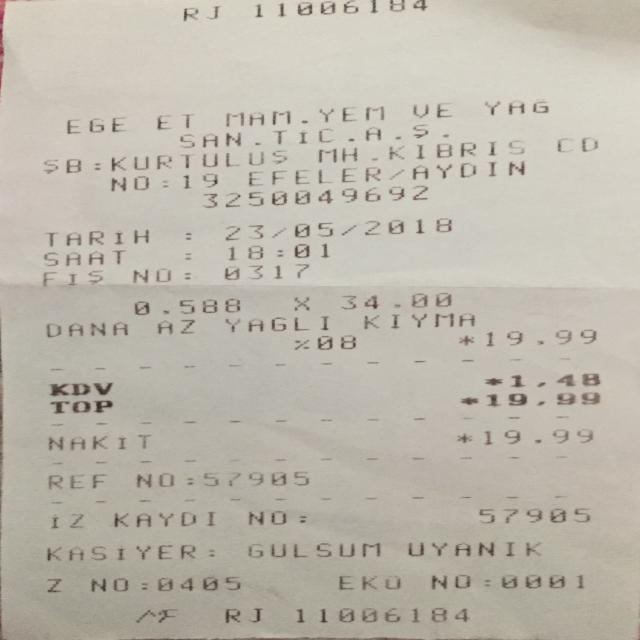text: (196, 186, 430, 210), (314, 139, 530, 162), (179, 126, 398, 147), (251, 0, 433, 18), (291, 606, 473, 624), (108, 150, 292, 167), (44, 542, 196, 562), (221, 222, 453, 235), (246, 539, 380, 560), (218, 107, 387, 123), (406, 538, 540, 558), (246, 168, 380, 184), (338, 292, 456, 309), (482, 427, 593, 445), (361, 312, 476, 329), (484, 329, 599, 346), (224, 315, 330, 333), (111, 510, 215, 528), (410, 162, 526, 178), (486, 391, 600, 407), (479, 507, 590, 523), (225, 243, 329, 260), (132, 298, 240, 314), (44, 229, 151, 245), (221, 263, 310, 280), (44, 320, 128, 338), (498, 573, 585, 590), (46, 434, 150, 448), (41, 249, 126, 266), (484, 95, 550, 116), (156, 576, 240, 592), (63, 114, 124, 134), (337, 572, 400, 591), (33, 270, 105, 286), (292, 335, 361, 351), (510, 374, 600, 386), (47, 472, 106, 490), (49, 399, 112, 413), (48, 381, 113, 394), (555, 136, 601, 154), (153, 110, 192, 131), (135, 470, 175, 490), (410, 99, 452, 118), (154, 317, 196, 336), (220, 606, 264, 624), (40, 156, 80, 175), (180, 171, 220, 190), (246, 508, 286, 527), (430, 572, 470, 591), (92, 575, 131, 593), (108, 174, 147, 192), (134, 608, 178, 623), (50, 511, 84, 530), (180, 4, 221, 18), (130, 268, 166, 282), (292, 293, 310, 313), (455, 427, 472, 446), (410, 122, 430, 138), (459, 392, 478, 408), (45, 575, 61, 593), (456, 331, 474, 346), (484, 374, 503, 388), (140, 574, 153, 593), (188, 470, 199, 489), (178, 271, 196, 281), (159, 172, 168, 190), (183, 224, 191, 244), (207, 540, 214, 561), (180, 251, 193, 261), (484, 572, 491, 590), (297, 514, 309, 524)
